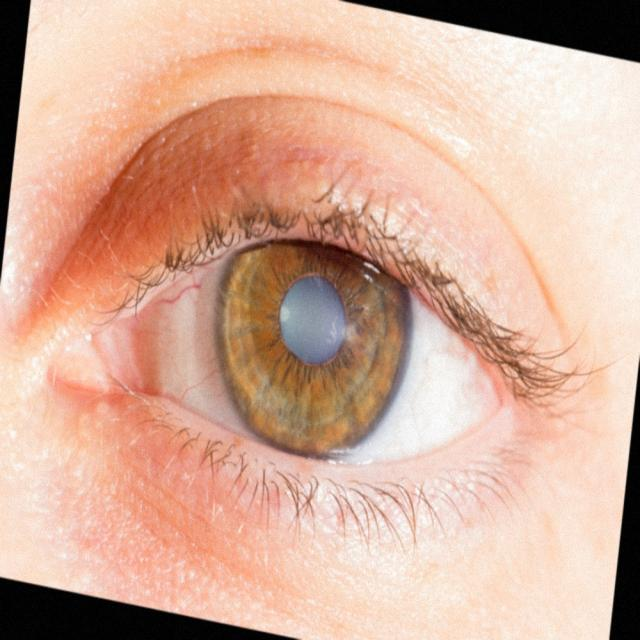Cataract: (40, 179, 580, 522)
